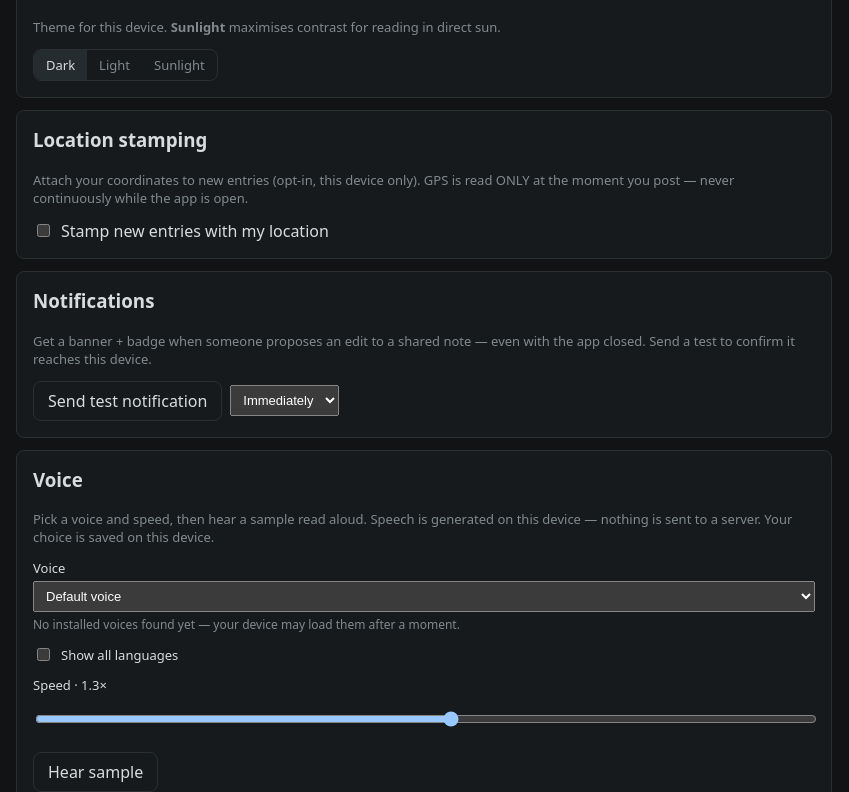
Test: SystemPage — push test notification › requests permission and stops if it isn't granted
(page scrolled)
Click the button "Send test notification" at x=128, y=401, box [33,381,222,421]
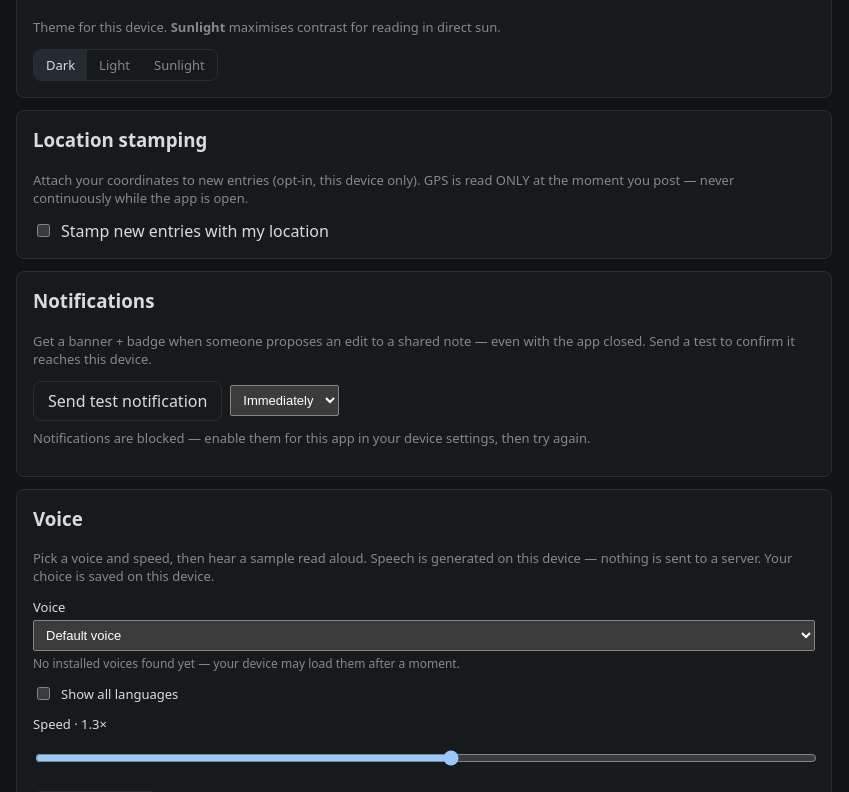
Result: the text "Notifications are blocked" is shown at [33,429,590,447]
